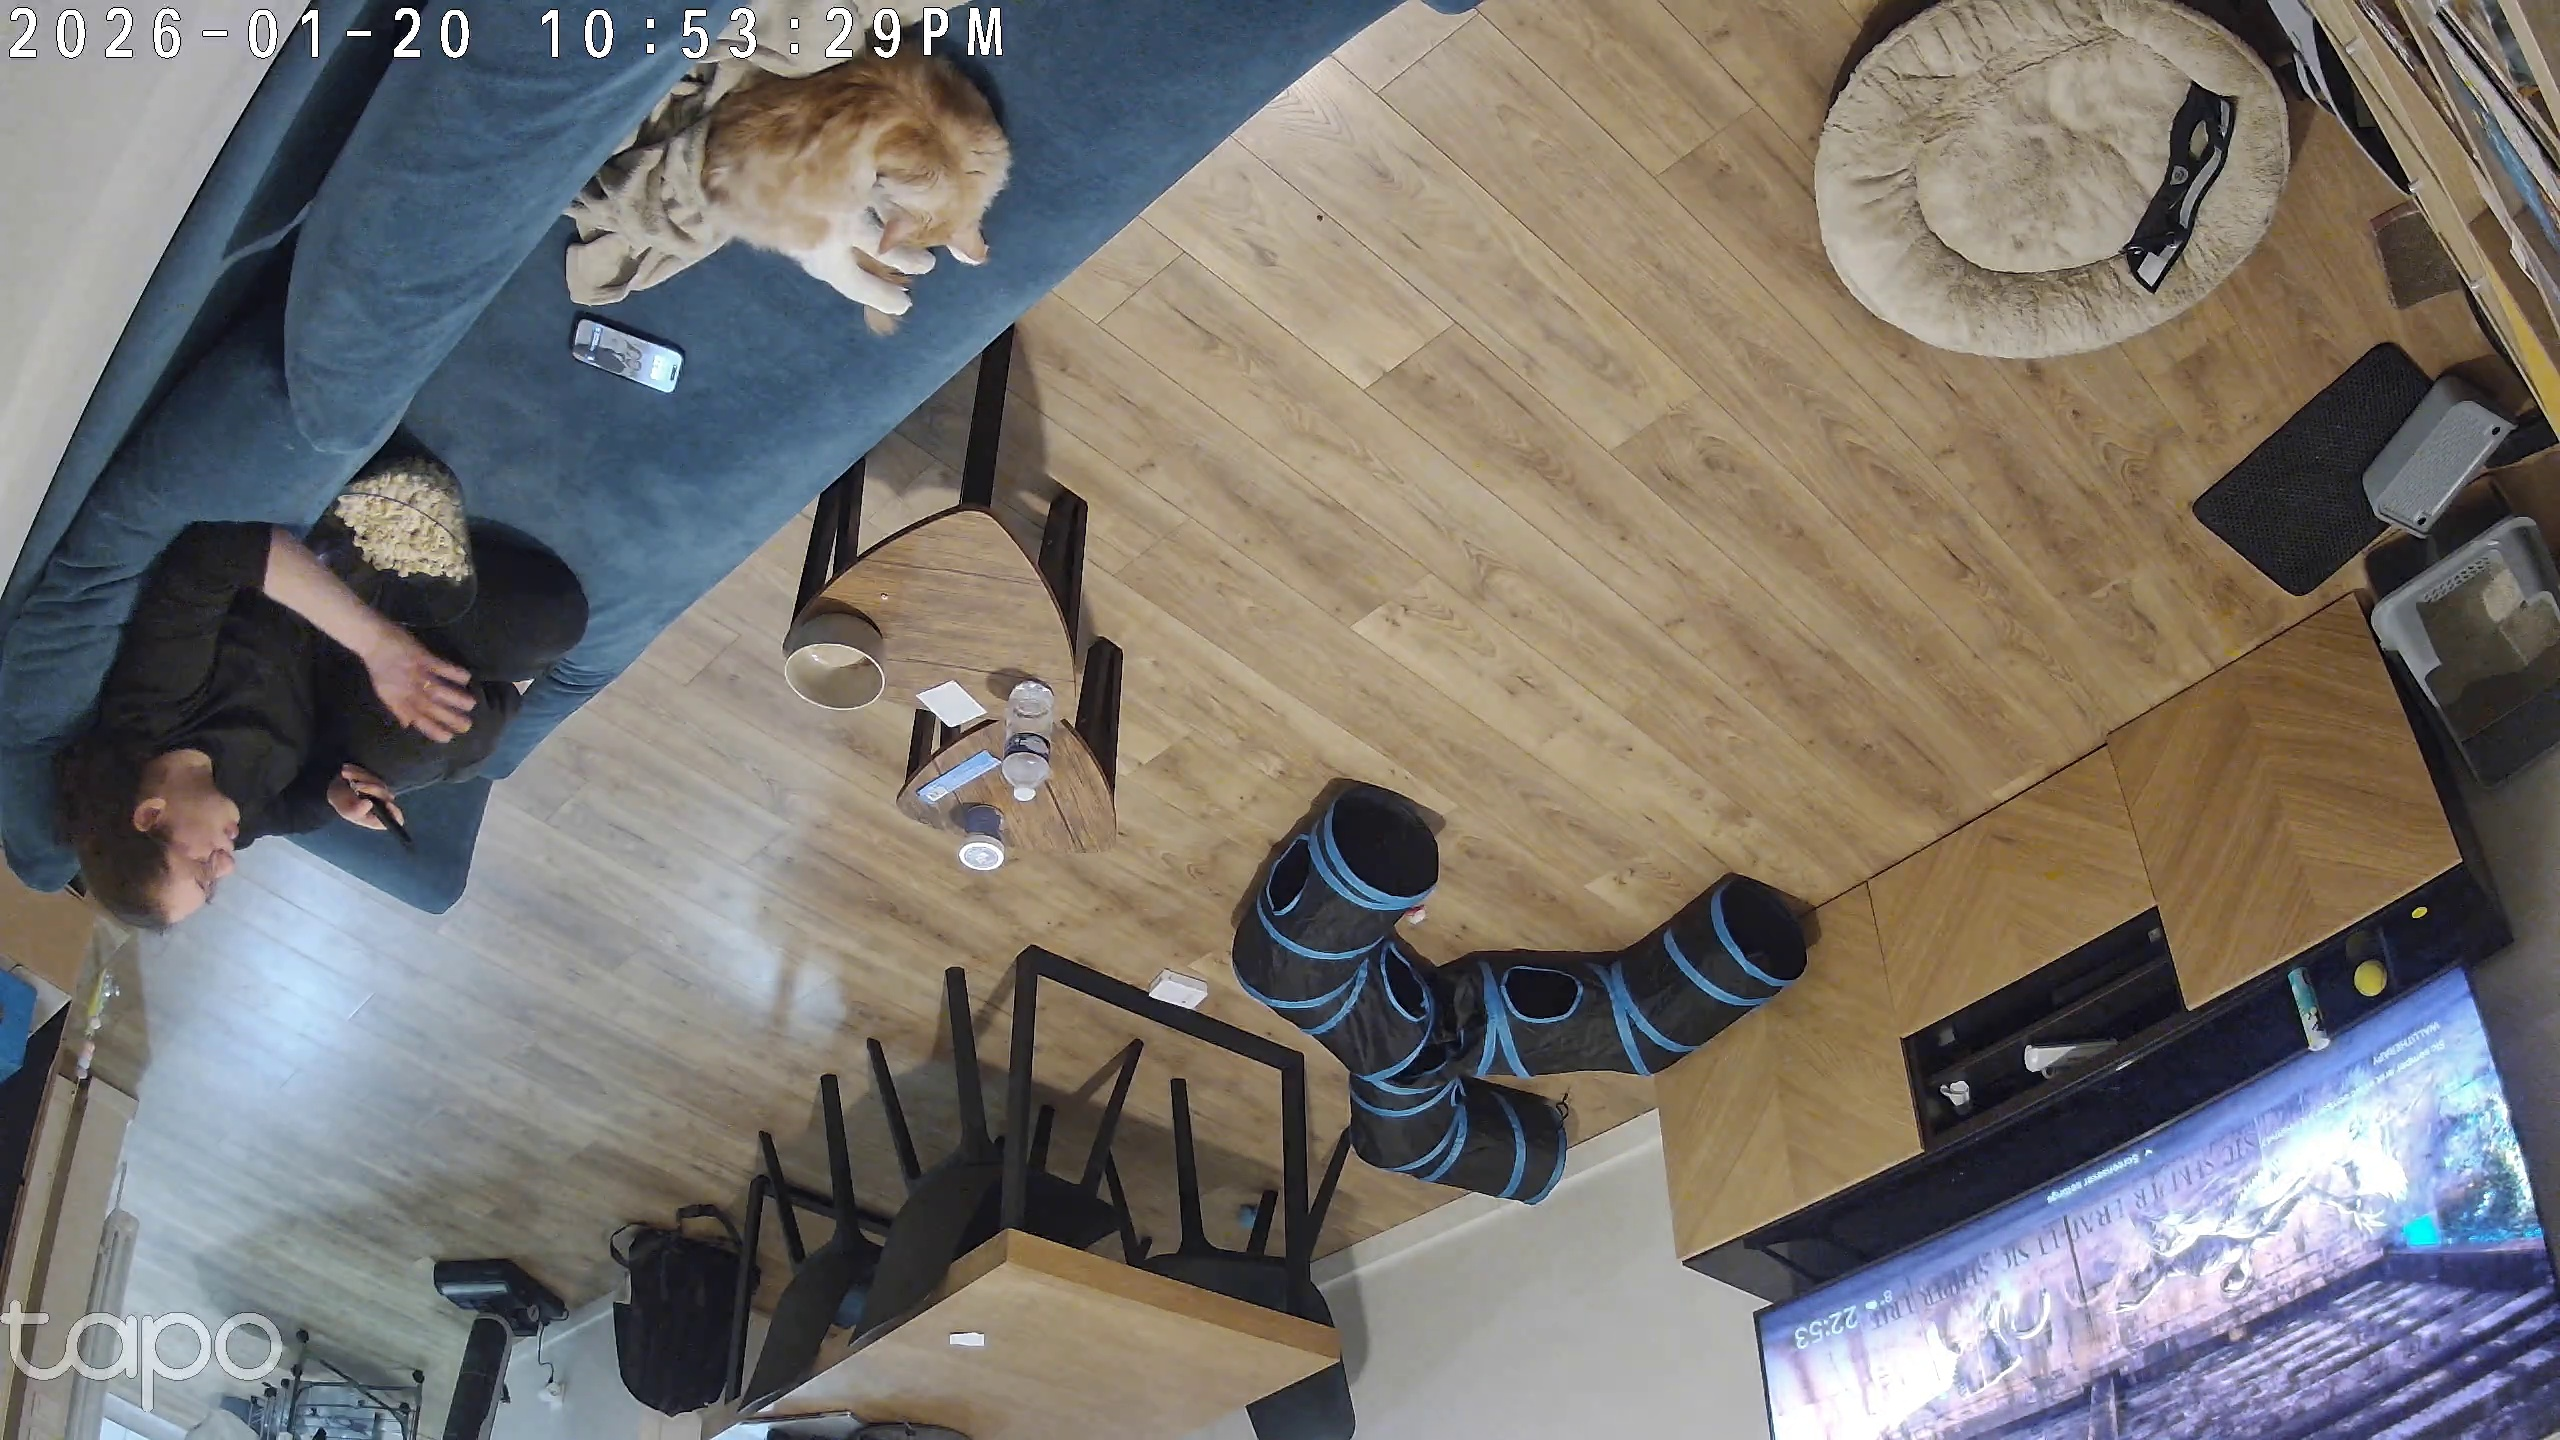Simba: (670, 23, 1029, 315)
